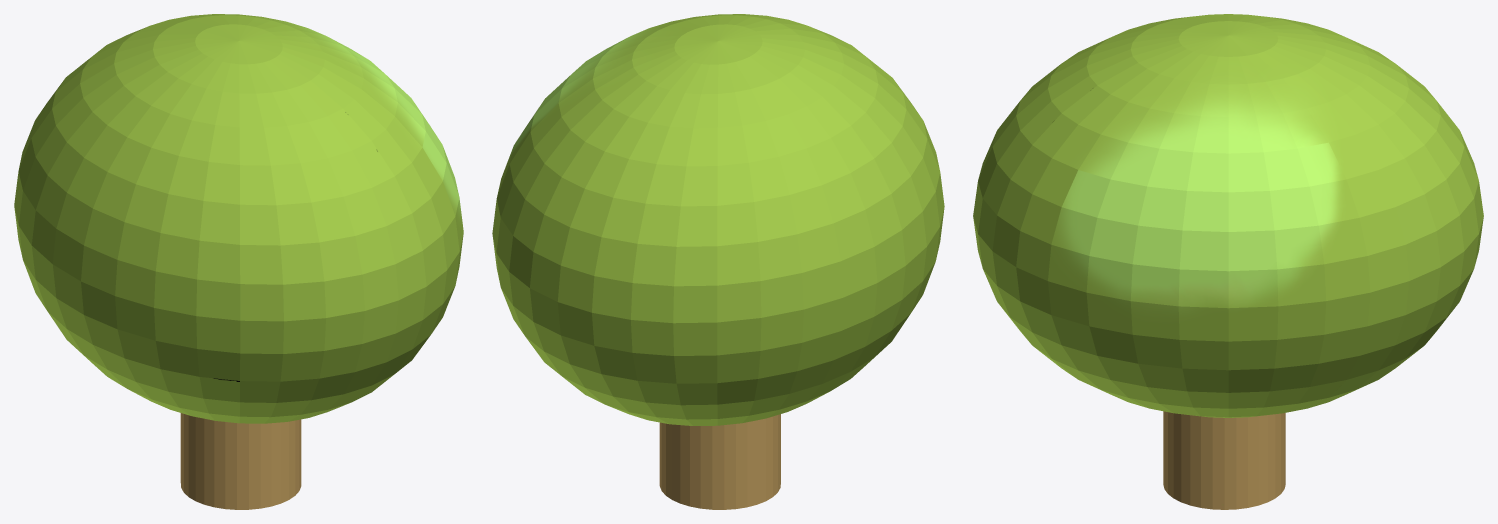
The model's file is Small Tree ModelT.fbx.
The picture shows the model from 3 angles, left to right: view 1: azimuth 30°, elevation 25°; view 2: azimuth 150°, elevation 25°; view 3: azimuth 270°, elevation 25°; orthographic projection.
Visible parts, largest first — view 1: Cylinder; view 2: Cylinder; view 3: Cylinder.
Boxes of the visible parts, x1,y1,x2,y2 form: Cylinder: (14,14,463,509); Cylinder: (492,14,944,509); Cylinder: (973,14,1483,509).
Bounding box in the file's own units: 41.79 × 47.4 × 48.93.
